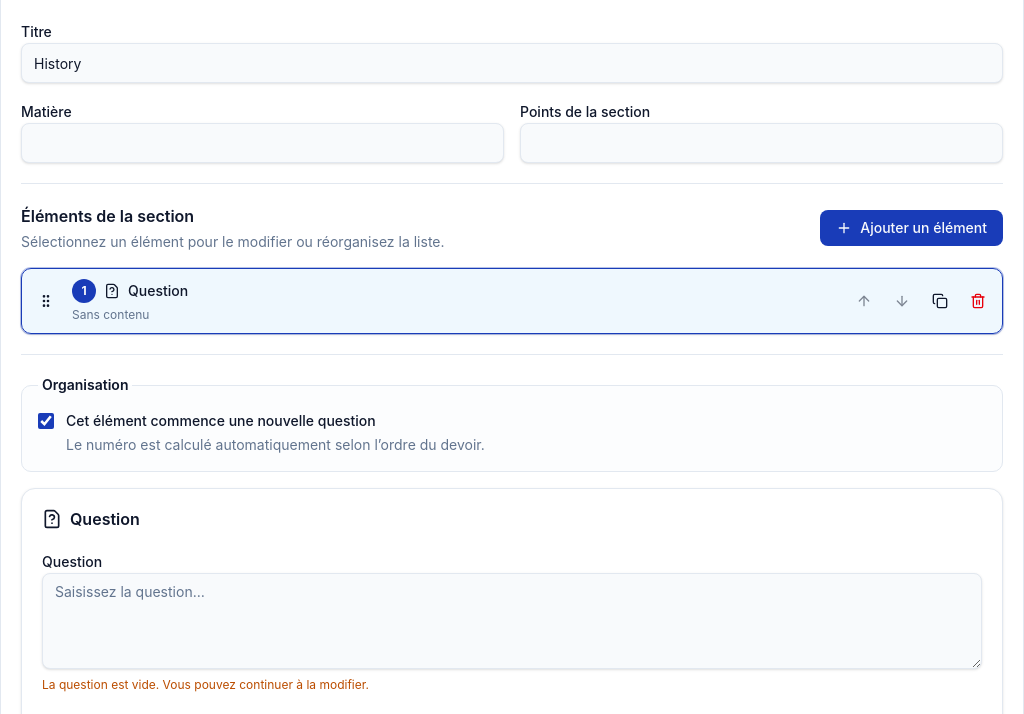
Test: Block CRUD UI › edits a question, coalesces typing, and keeps the schema valid
The image size is (1024, 714).
Type "Expliquez les causes" into the text box labelled "Question".
click(512, 621); type("Expliquez les causes")  # box [42,573,982,669]
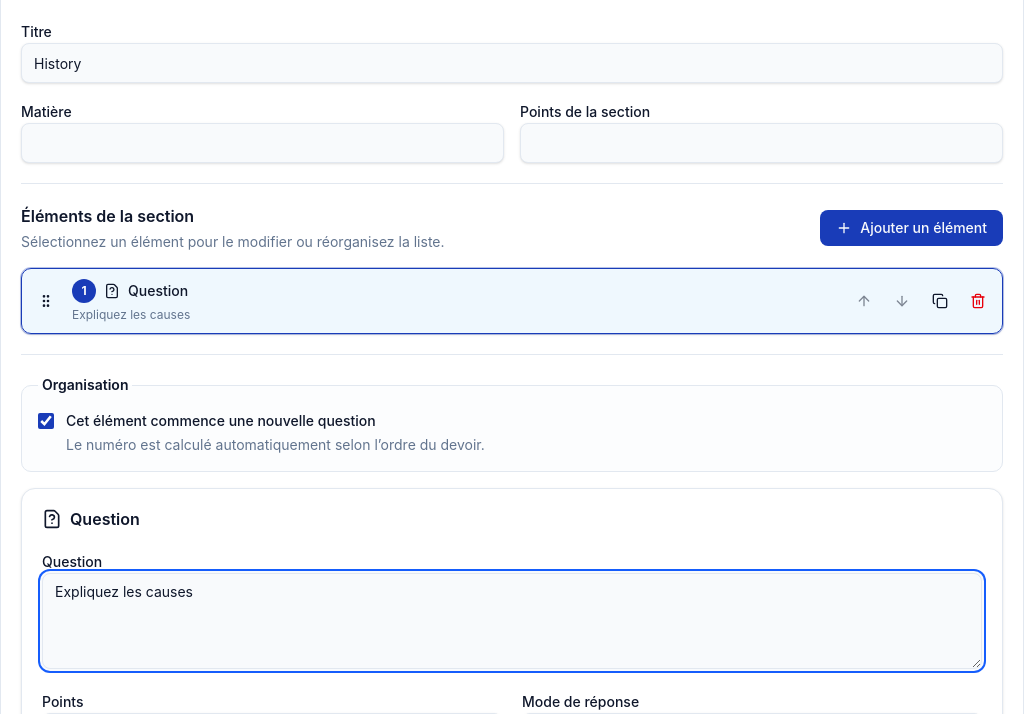
Press Tab
(page scrolled)
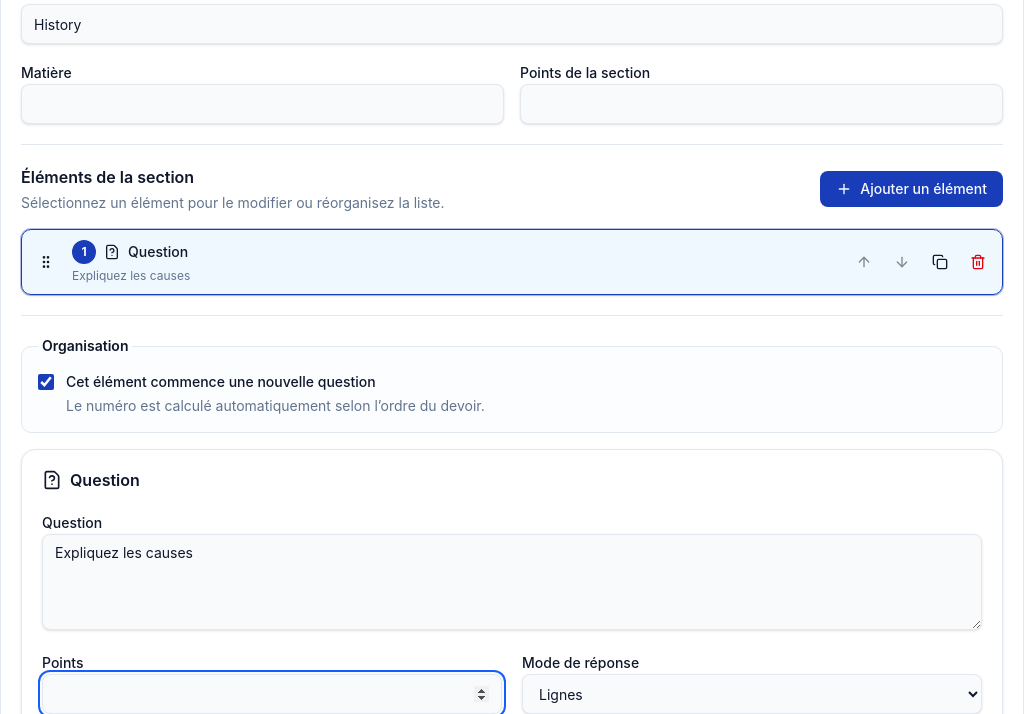
Type "1.5" into the number field labelled "Points".
click(272, 694); type("1.5")  # box [42,674,502,713]
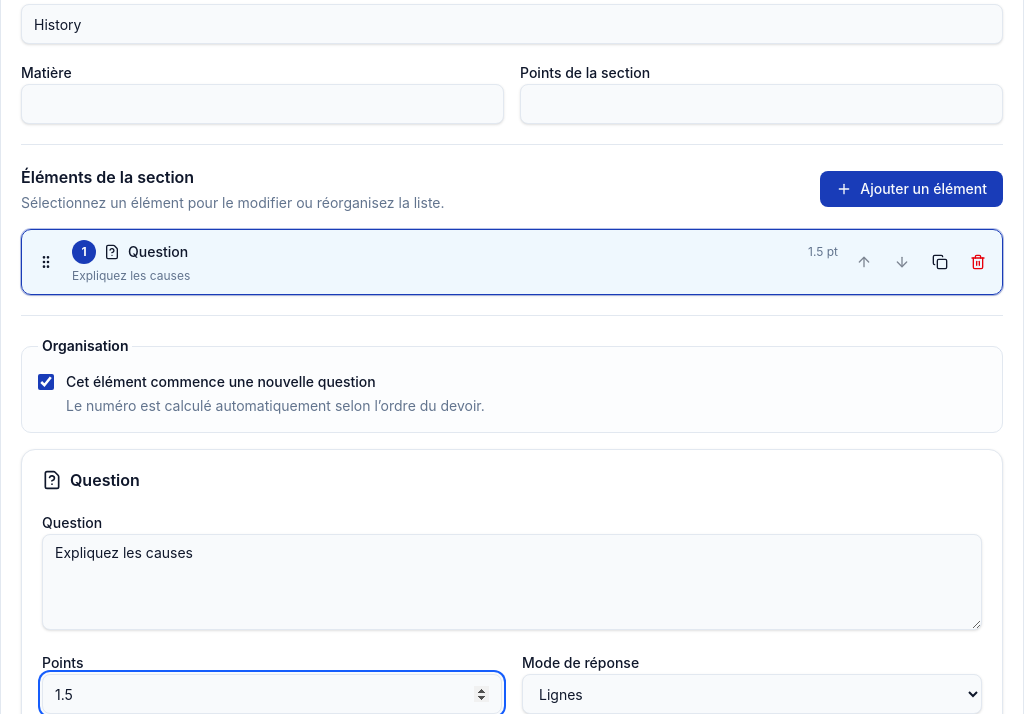
Select "Aucune" in the dropdown labelled "Mode de réponse" at (752, 694), box [522,674,982,713]
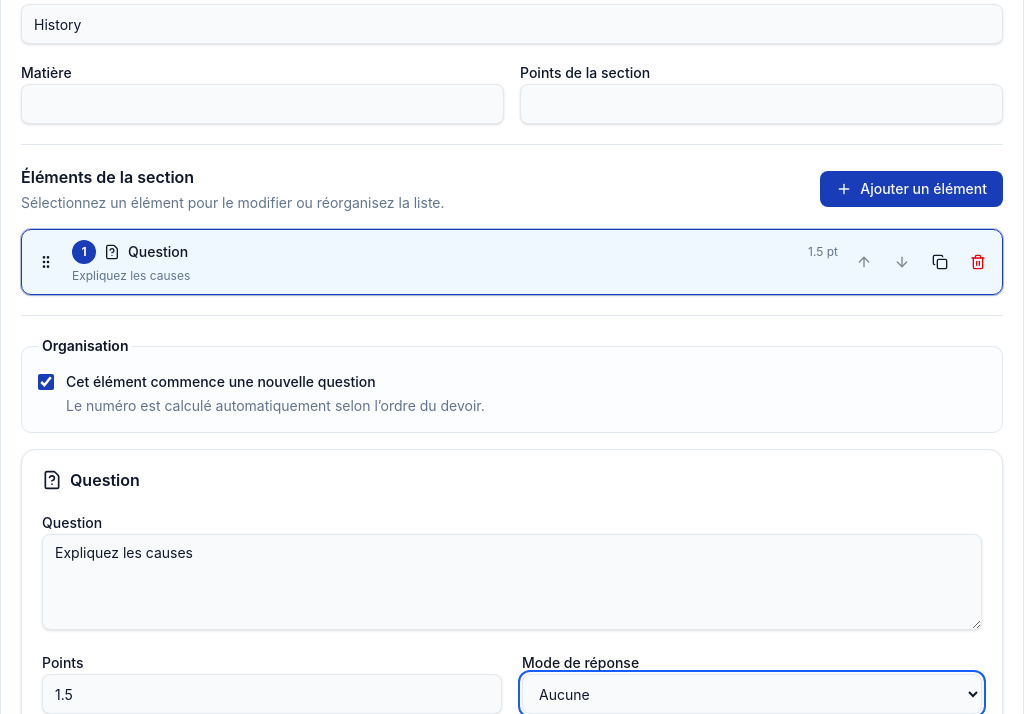
Select "Lignes" in the dropdown labelled "Mode de réponse" at (752, 694), box [522,674,982,713]
(page scrolled)
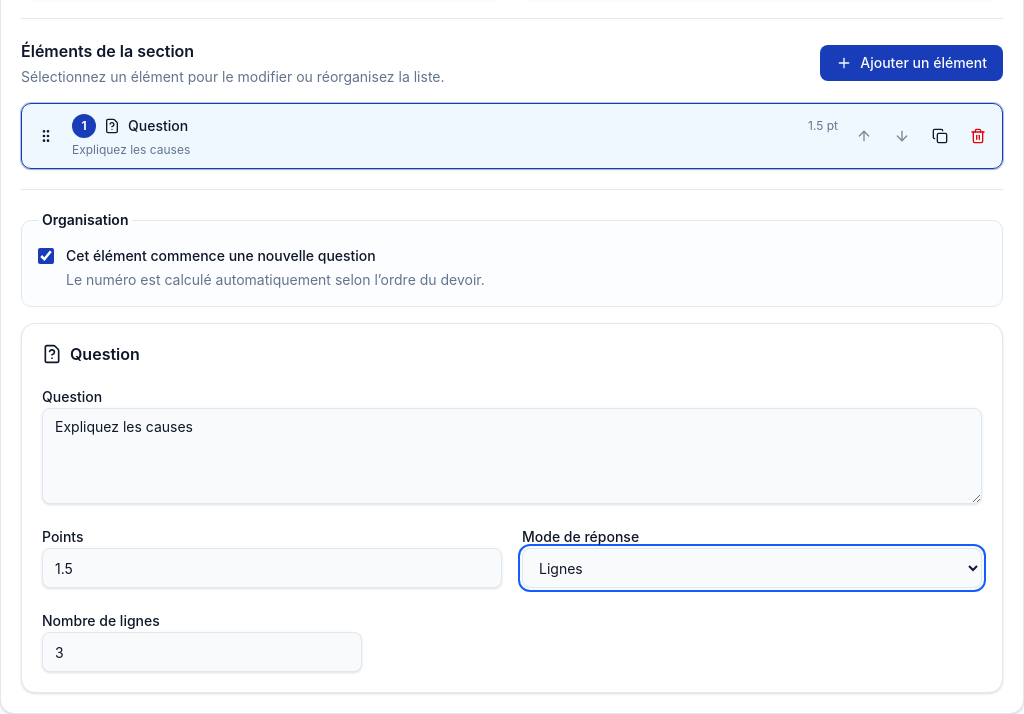
Now the number field labelled "Nombre de lignes" holds "3", box [42,632,362,672]
